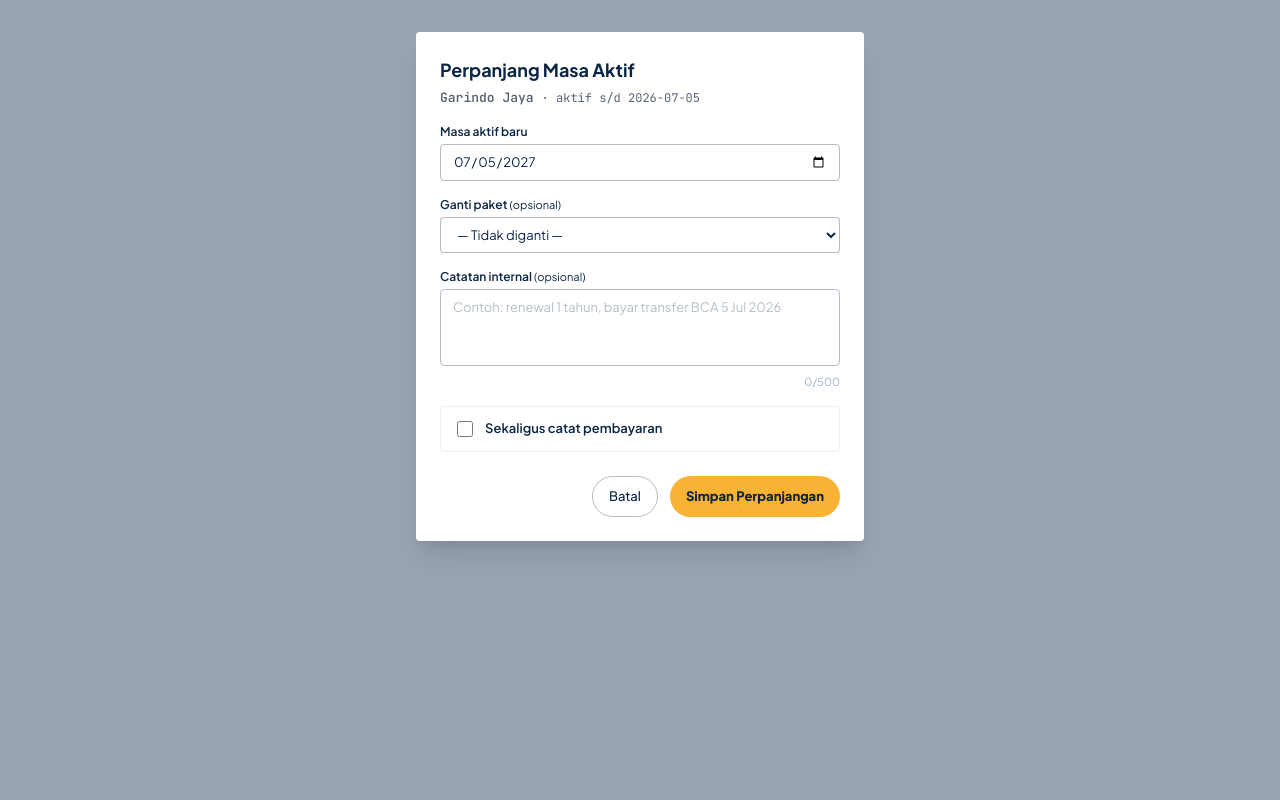
Scenario: RenewSubscriptionModal › submit button is disabled when new date <= today
The image size is (1280, 800).
Set a past date
Type "2020-01-01" into the date field labelled "Masa aktif baru". click: (640, 162)
box: [440,144,840,181]
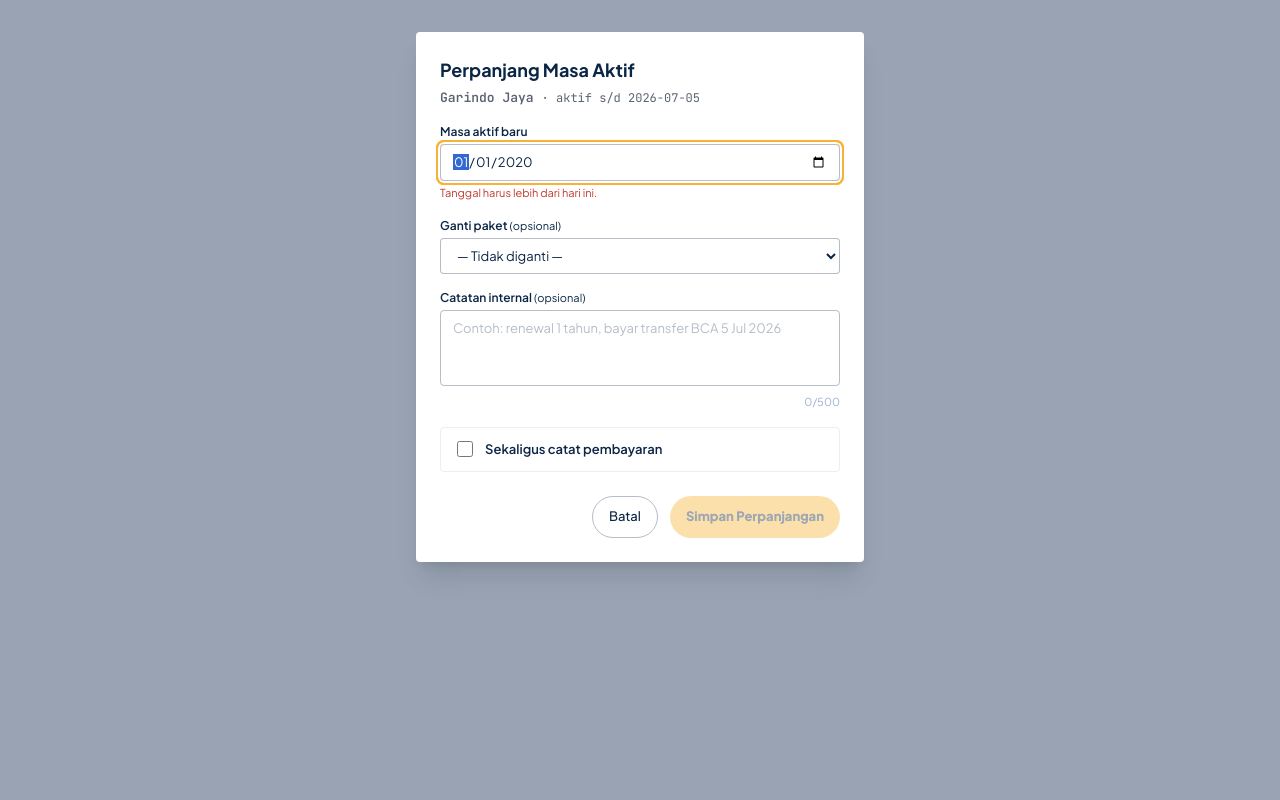
Result: the button "Simpan Perpanjangan" is disabled at [670,496,840,538]
